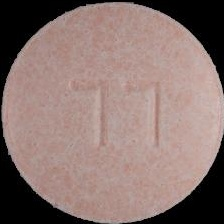33261-728: (0, 0, 224, 224)
